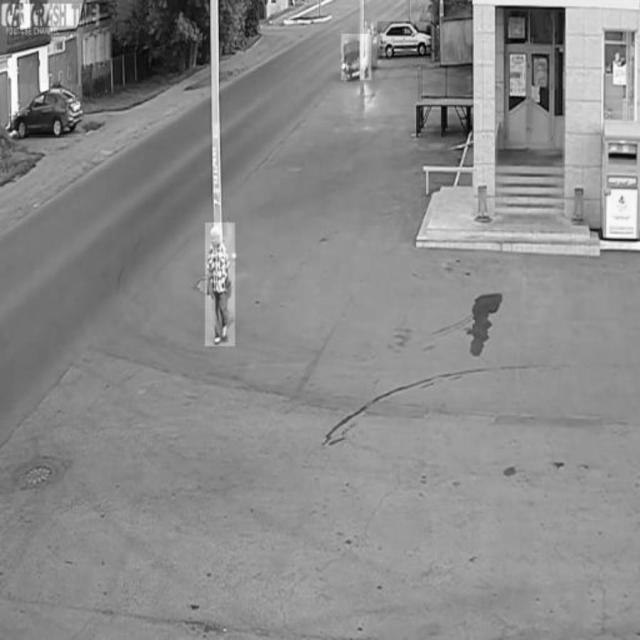person: (204, 223, 234, 347)
vehicle: (12, 85, 83, 137), (378, 22, 433, 59), (342, 34, 372, 80)
